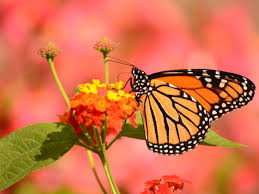butterfly: (129, 65, 256, 155)
flower: (57, 76, 134, 149)
